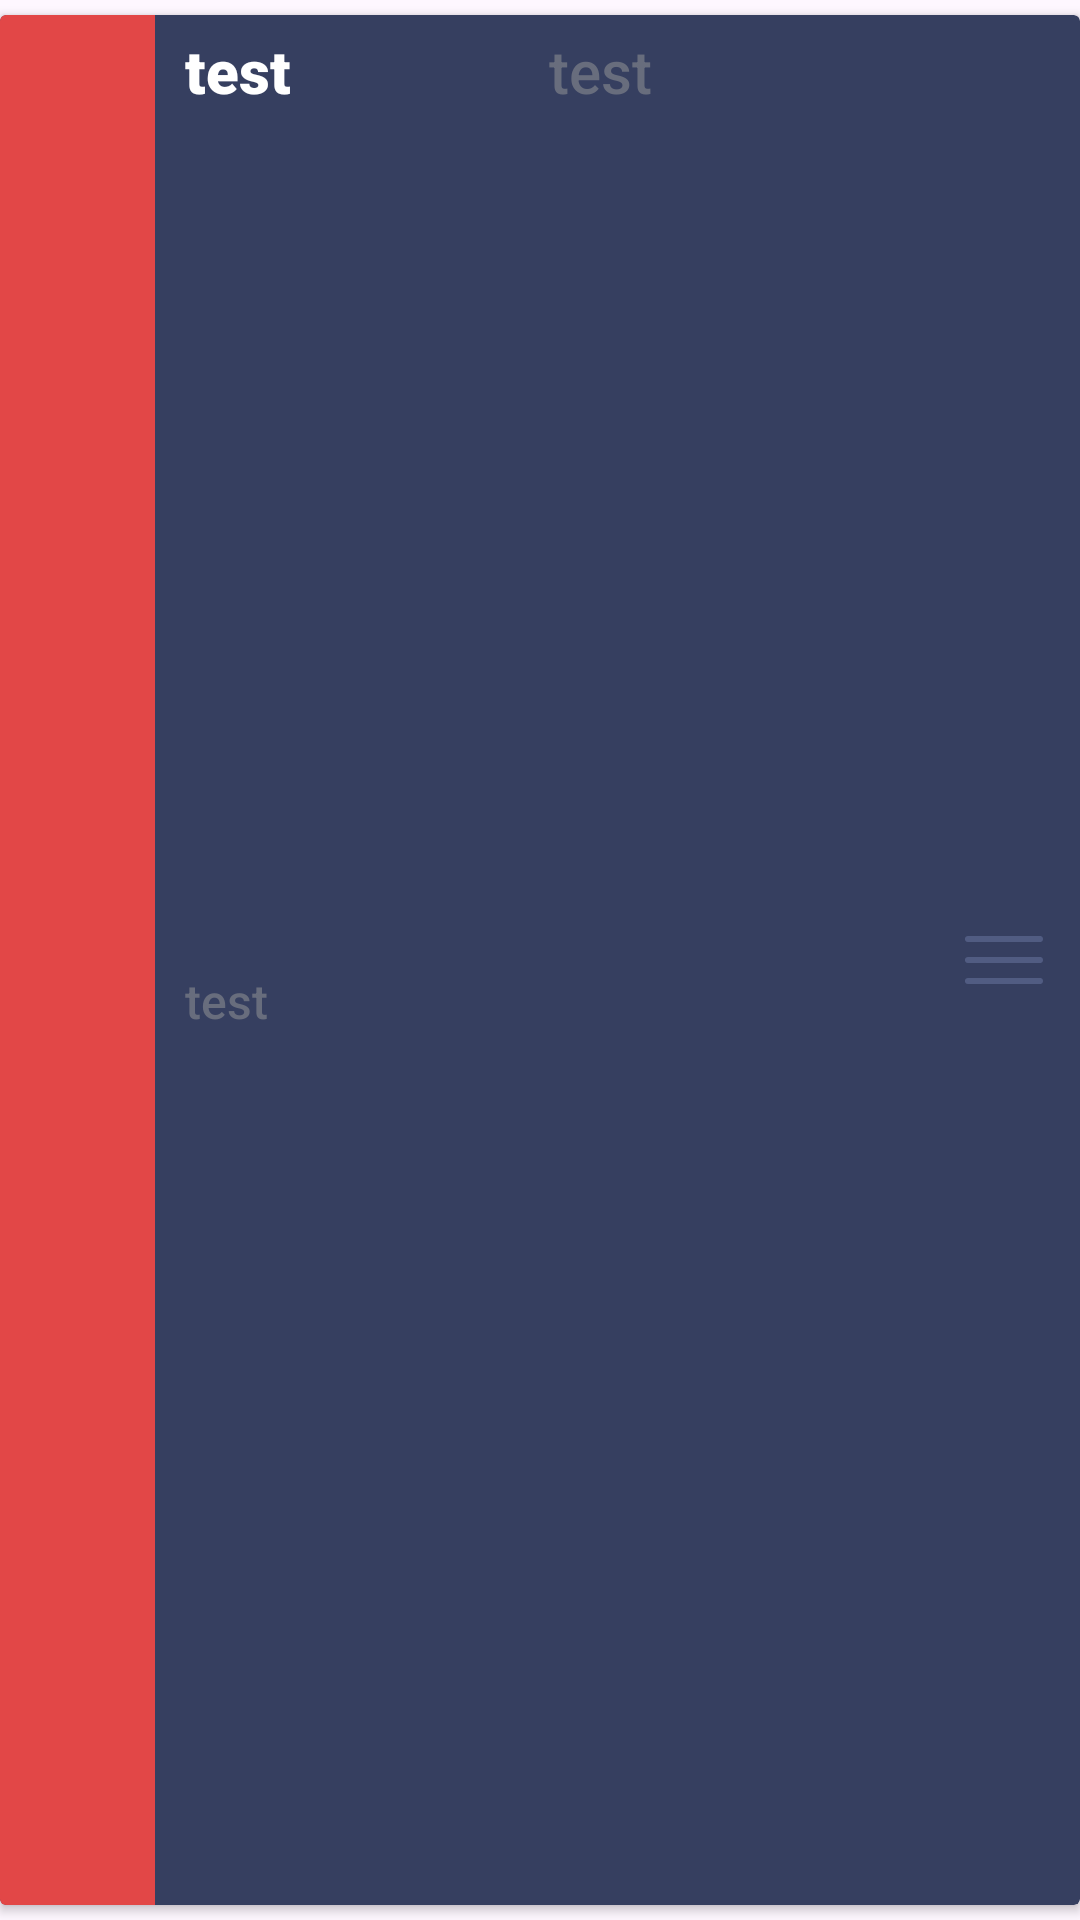

Where icons sit on this 1080x1920 app screen, as (x1, y1, x2, y2):
menu: (965, 936, 1043, 984)
